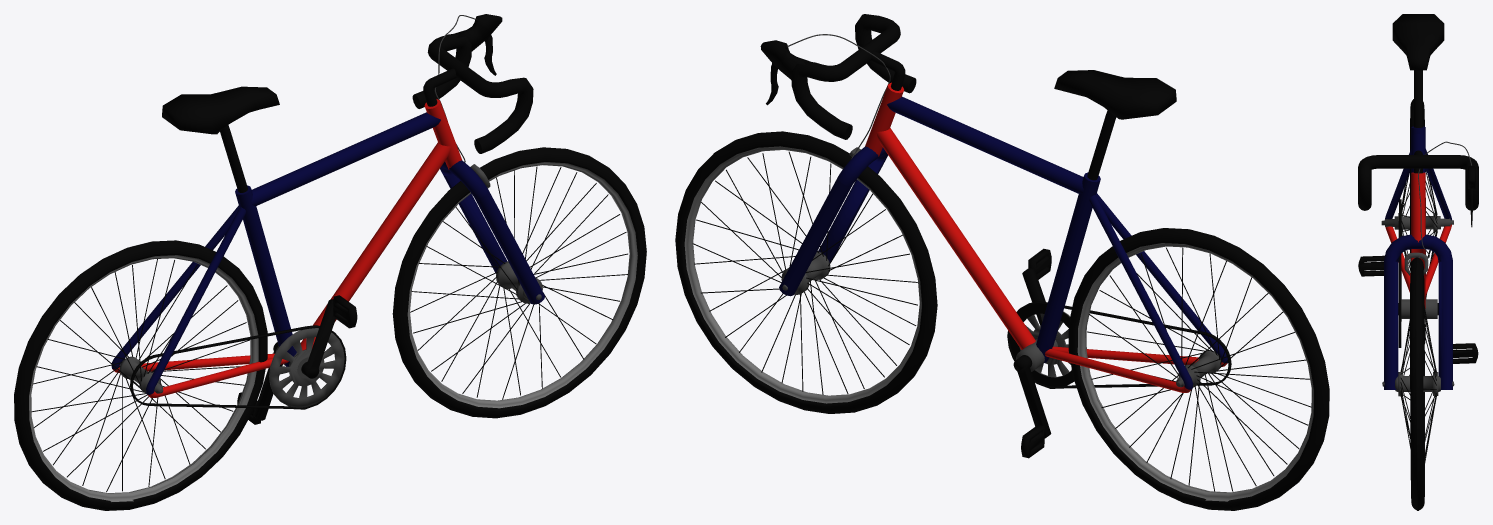
File: RoadBikeV5.fbx
The picture shows the model from 3 angles, left to right: view 1: azimuth 30°, elevation 25°; view 2: azimuth 150°, elevation 25°; view 3: azimuth 270°, elevation 25°; orthographic projection. The views are drawn at different scales.
Visible parts, largest first — view 1: BikeFrame, RearWheel, FrontWheel, Handle, Pedalier; view 2: BikeFrame, RearWheel, FrontWheel, Handle, Pedalier; view 3: Handle, BikeFrame, FrontWheel, RearWheel, PEdalLeftR, PEdalLeft, Pedalier.
Boxes of the visible parts, left/top/right/bottom form: BikeFrame: left=111, top=86, right=490, bottom=409; RearWheel: left=14, top=240, right=267, bottom=510; FrontWheel: left=392, top=147, right=646, bottom=418; Handle: left=412, top=14, right=544, bottom=304; Pedalier: left=253, top=299, right=335, bottom=420; BikeFrame: left=849, top=70, right=1231, bottom=392; RearWheel: left=1068, top=228, right=1329, bottom=510; FrontWheel: left=675, top=131, right=937, bottom=413; Handle: left=760, top=14, right=916, bottom=296; Pedalier: left=1013, top=268, right=1057, bottom=438; Handle: left=1358, top=141, right=1478, bottom=389; BikeFrame: left=1384, top=14, right=1451, bottom=347; FrontWheel: left=1382, top=257, right=1454, bottom=510; RearWheel: left=1381, top=99, right=1453, bottom=343; PEdalLeftR: left=1358, top=255, right=1384, bottom=276; PEdalLeft: left=1453, top=343, right=1478, bottom=363; Pedalier: left=1398, top=299, right=1438, bottom=318.
Size of the model in its own units: 461 by 272 by 87.88.
